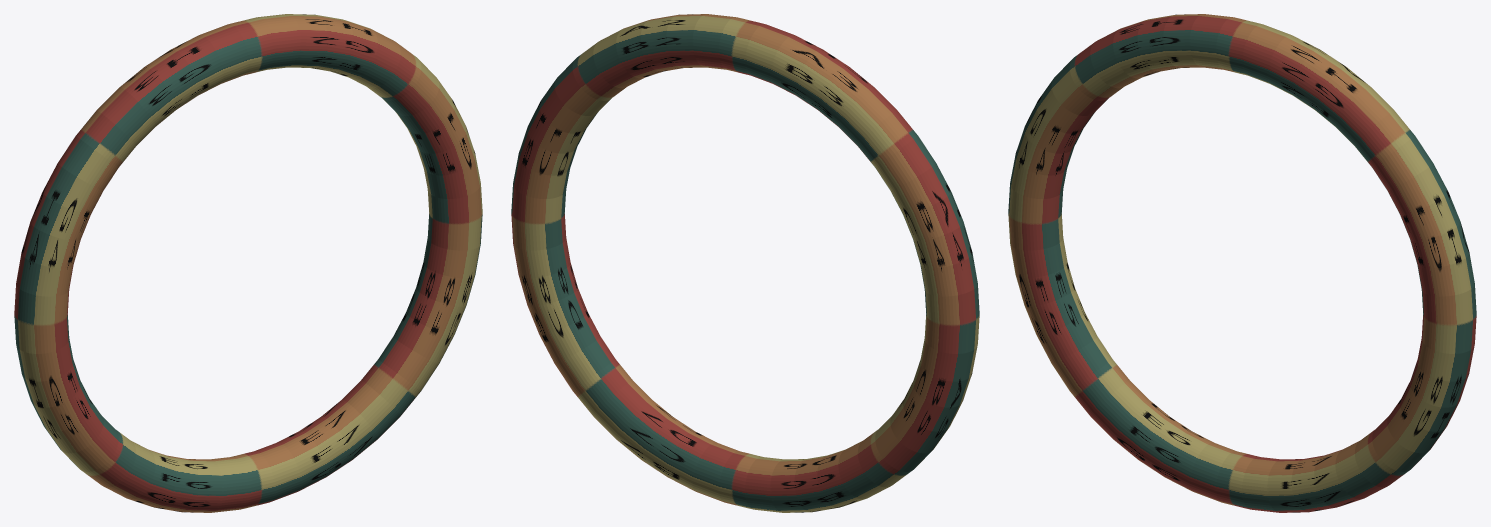
The model's file is texture_torus_R19_r2.glb.
3 renders of one model, left to right at view 1: azimuth 30°, elevation 25°; view 2: azimuth 150°, elevation 25°; view 3: azimuth 330°, elevation 25°, orthographic.
Visible parts, largest first — view 1: world; view 2: world; view 3: world.
Boxes of the visible parts, x1,y1,x2,y2 form: world: (14,14,482,512); world: (511,14,979,512); world: (1008,14,1476,512).
Bounding box in the file's own units: 25.2 × 25.15 × 2.53.
Materials: 1 (1 with a texture image).
